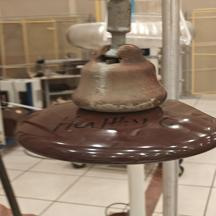insulator: (12, 41, 216, 184)
